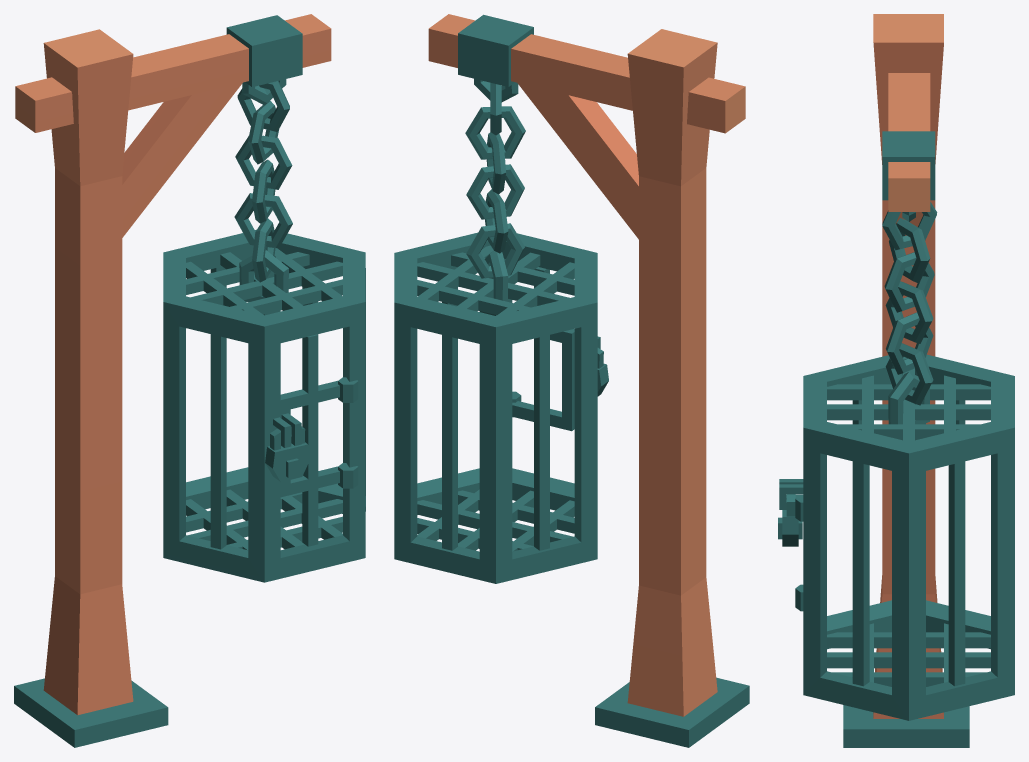
Rendered from torture8.fbx.
3 renders of one model, left to right at view 1: azimuth 30°, elevation 25°; view 2: azimuth 150°, elevation 25°; view 3: azimuth 270°, elevation 25°, orthographic. The views are drawn at different scales.
Parts seen in each view (by area): view 1: torture8, door1; view 2: torture8, door1; view 3: torture8, door1.
Part boxes in pixels (x1,y1,x2,y2): torture8: (14,14,365,747); door1: (280,334,358,546); torture8: (394,14,749,747); door1: (512,267,574,431); torture8: (778,14,1014,747); door1: (779,484,803,611).
Bounding box in the file's own units: 206 × 384 × 119.
